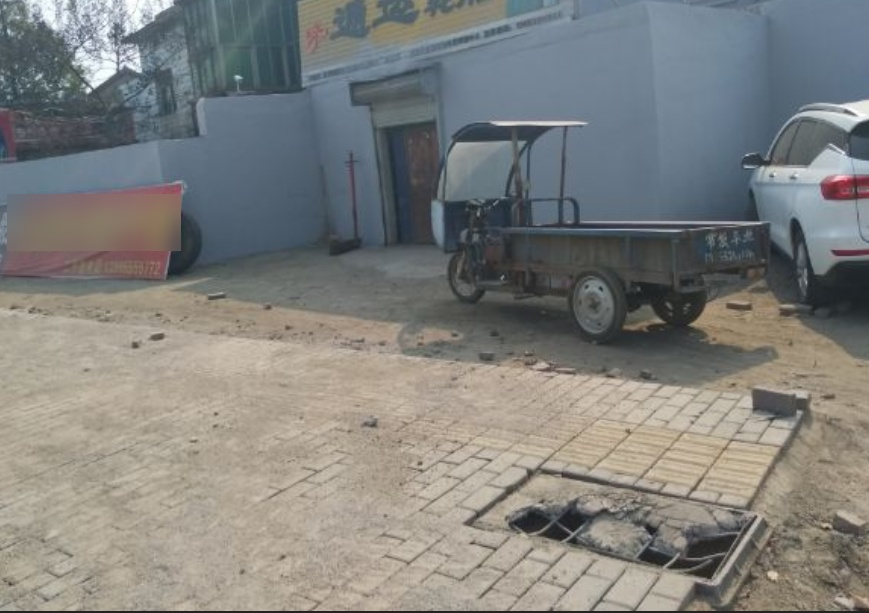broke: (463, 466, 770, 606)
